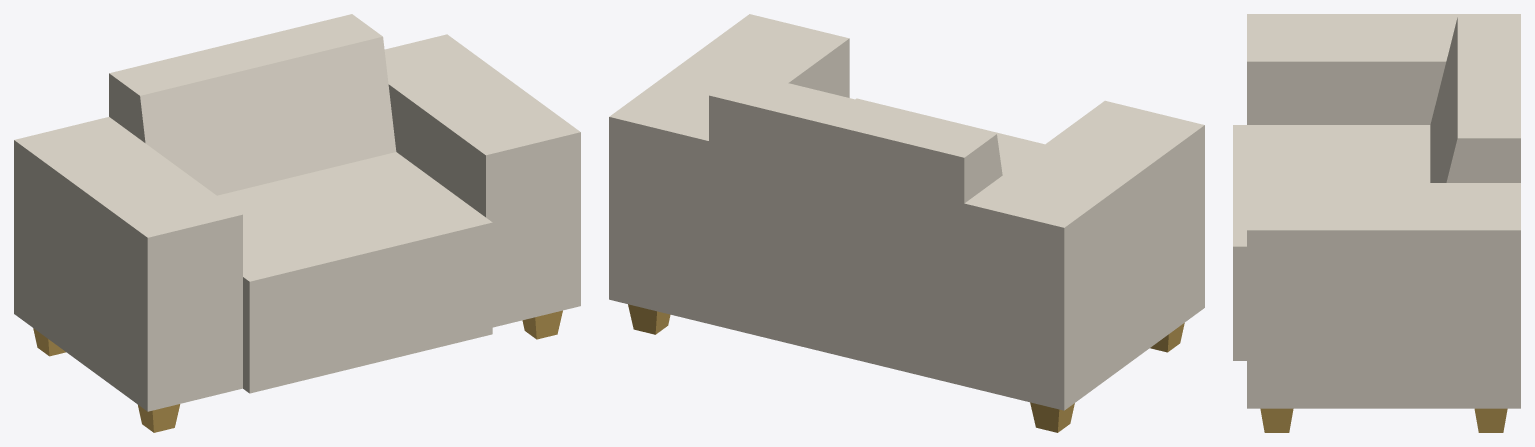
File: armchair.glb
3 renders of one model, left to right at view 1: azimuth 30°, elevation 25°; view 2: azimuth 150°, elevation 25°; view 3: azimuth 270°, elevation 25°, orthographic. The views are drawn at different scales.
Parts seen in each view (by area): view 1: armchair; view 2: armchair; view 3: armchair.
Boxes of the visible parts, x1,y1,x2,y2 form: armchair: (14,14,580,432); armchair: (609,14,1204,432); armchair: (1233,14,1520,432).
Size of the model in its own units: 1.46 by 0.8001 by 0.82.
